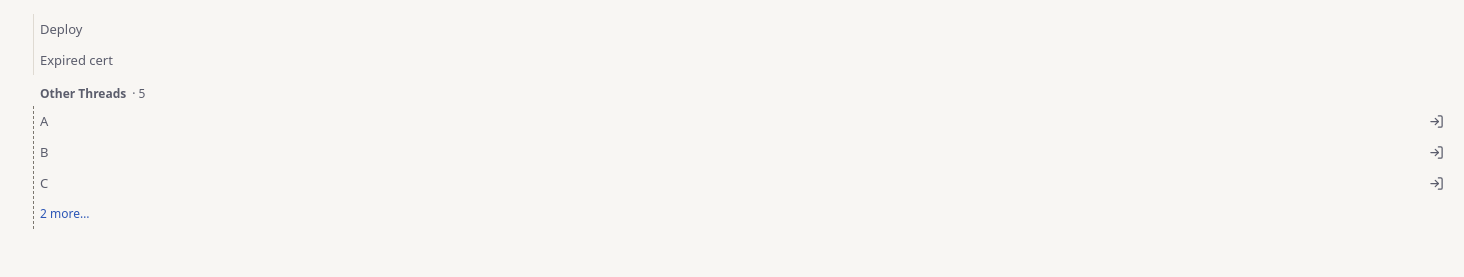
Test: ThreadList › shows the three most active others, and the rest on "N more…"
Step 1. Click the button with test id "more-threads" → (65, 214), box [12, 199, 1452, 229]
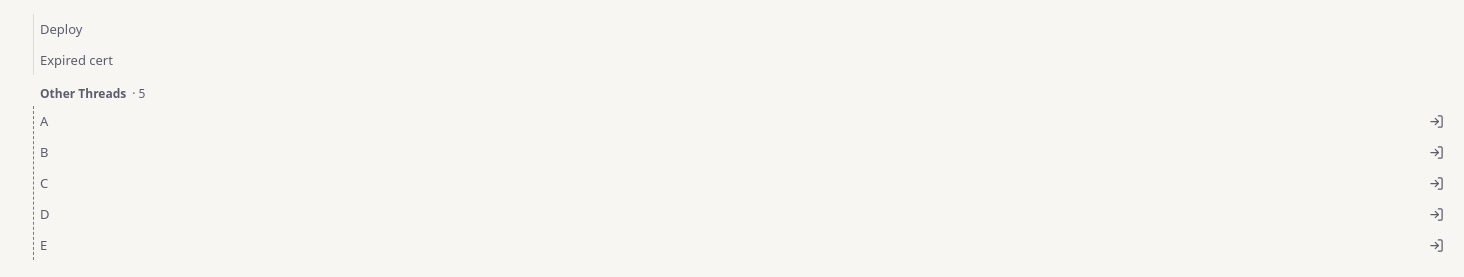
expect the button with test id "more-threads" is gone: met
